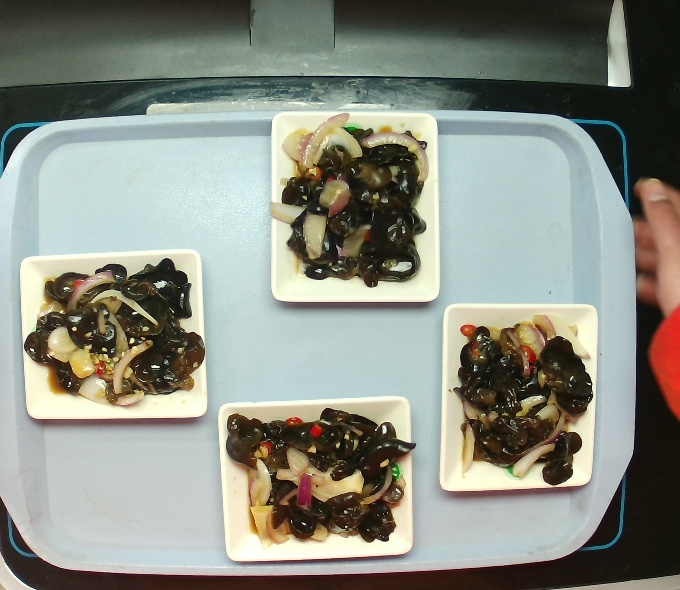wcq-LiangBanMuEr: (4, 259, 228, 407), (276, 122, 431, 291), (225, 405, 407, 541), (448, 317, 592, 480)
